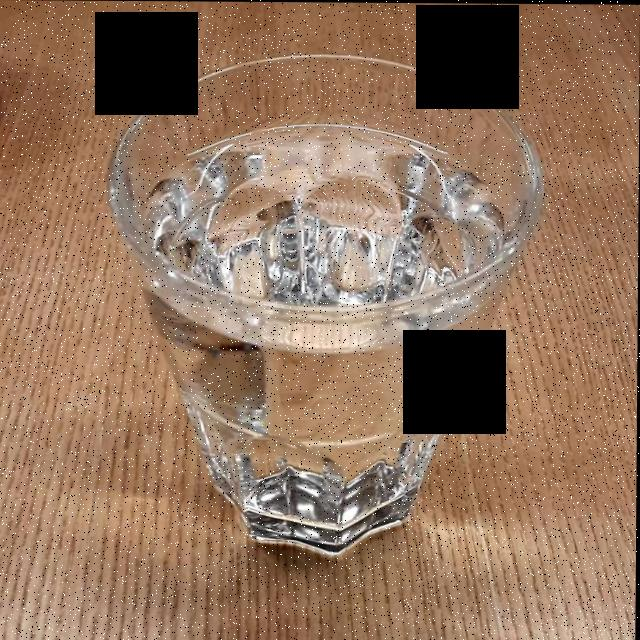water: (153, 144, 499, 309)
